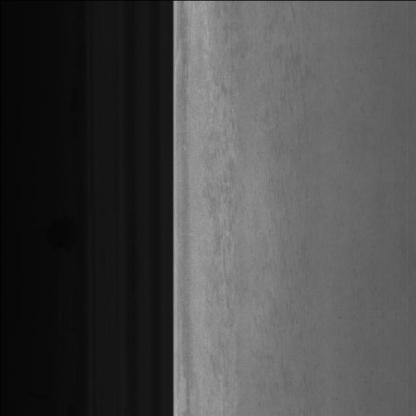silk_spot: (201, 52, 253, 348)
